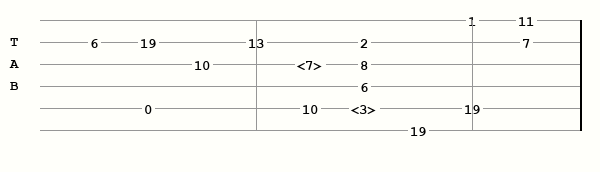0: (144, 102, 156, 115)
1: (468, 14, 480, 27)
10: (194, 58, 214, 71), (302, 102, 322, 115)
11: (518, 14, 538, 27)
13: (248, 36, 268, 49)
19: (140, 36, 160, 49), (410, 124, 430, 137), (464, 102, 484, 115)
2: (360, 36, 372, 49)
6: (90, 36, 102, 49), (360, 80, 372, 93)
7: (522, 36, 534, 49)
8: (360, 58, 372, 71)
harmonic: (297, 58, 327, 71), (351, 102, 381, 115)
